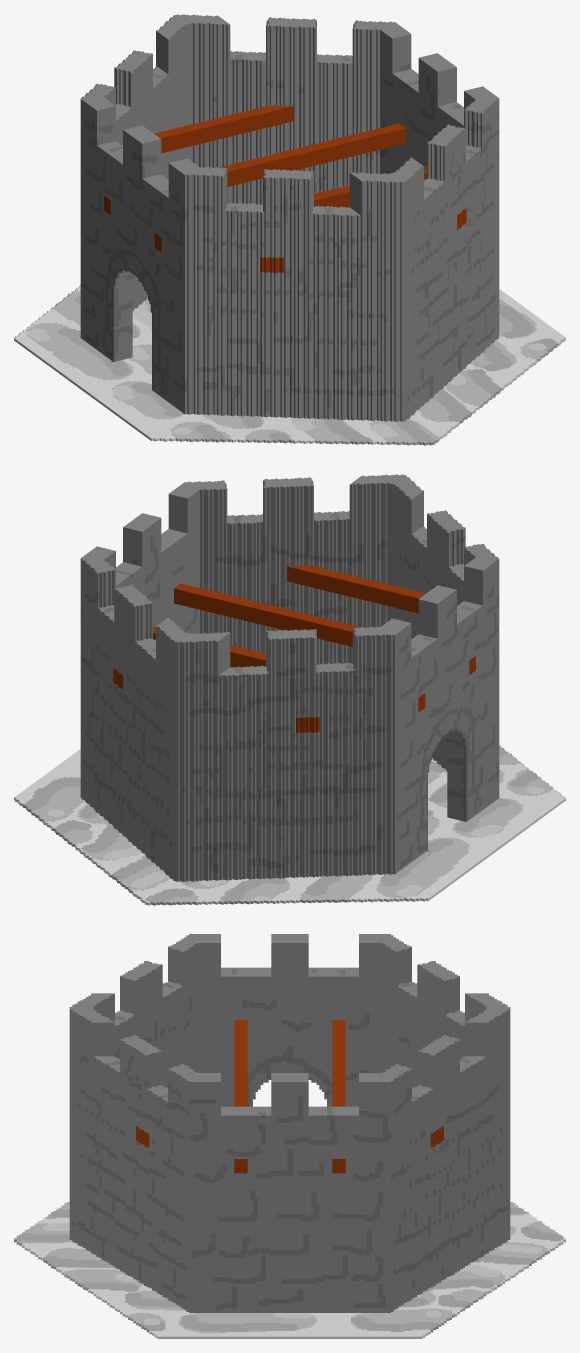
The model's file is Hexagone Castle.obj.
The picture shows the model from 3 angles, top to bottom: view 1: azimuth 30°, elevation 25°; view 2: azimuth 150°, elevation 25°; view 3: azimuth 270°, elevation 25°; orthographic projection. The views are drawn at different scales.
Size of the model in its own units: 17.4 by 9.7 by 20.8.
1 material, 1 textured.
